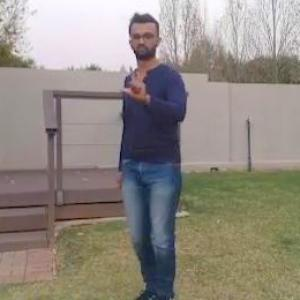land_hand: (120, 65, 151, 100)
